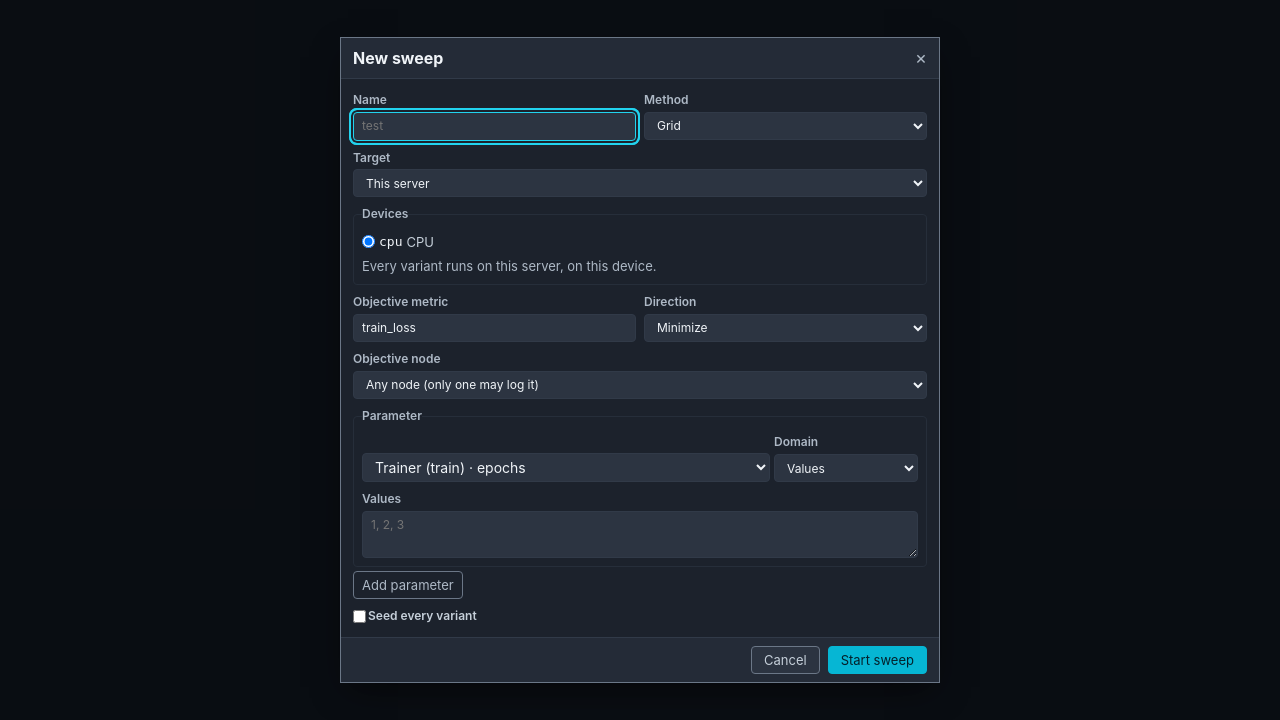
Test: NewSweepDialog › shows a thrown value that is not an Error as text
In the text box labelled "Values": [640, 534] box x1=362 y1=511 x2=918 y2=558, type "2, 4"
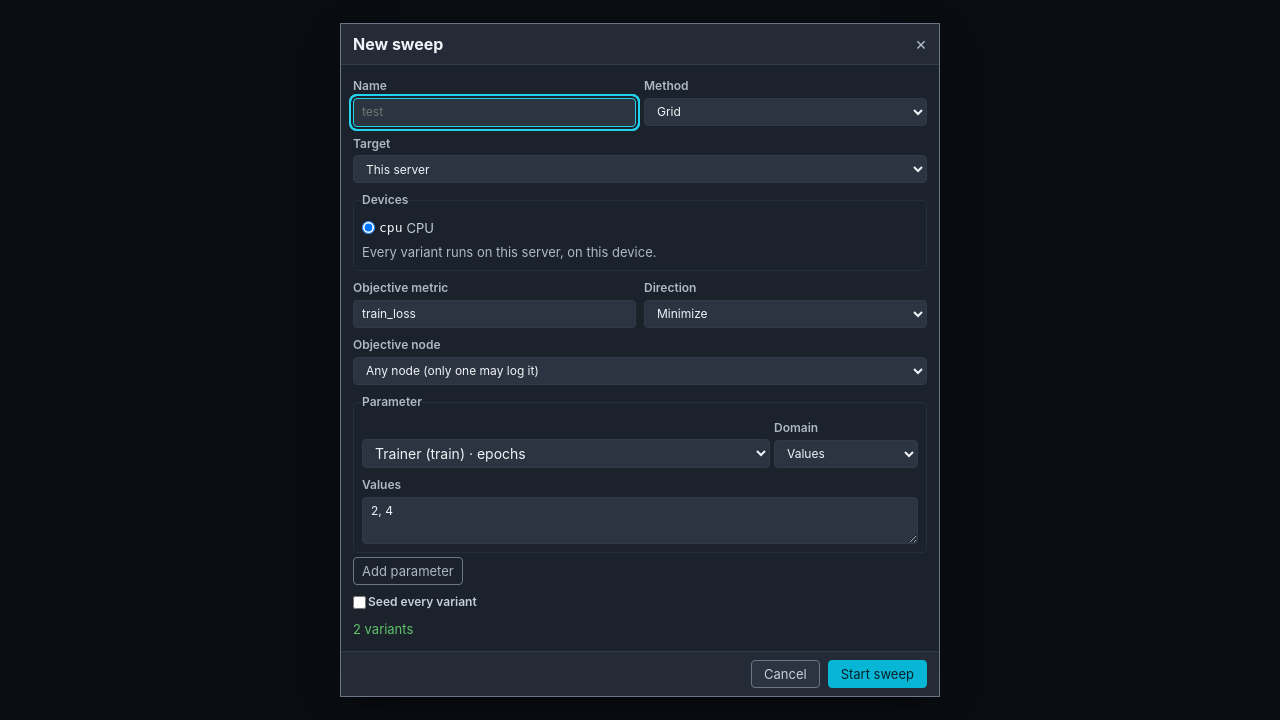
Click the button "Start sweep": [877, 674] box x1=828 y1=660 x2=927 y2=688
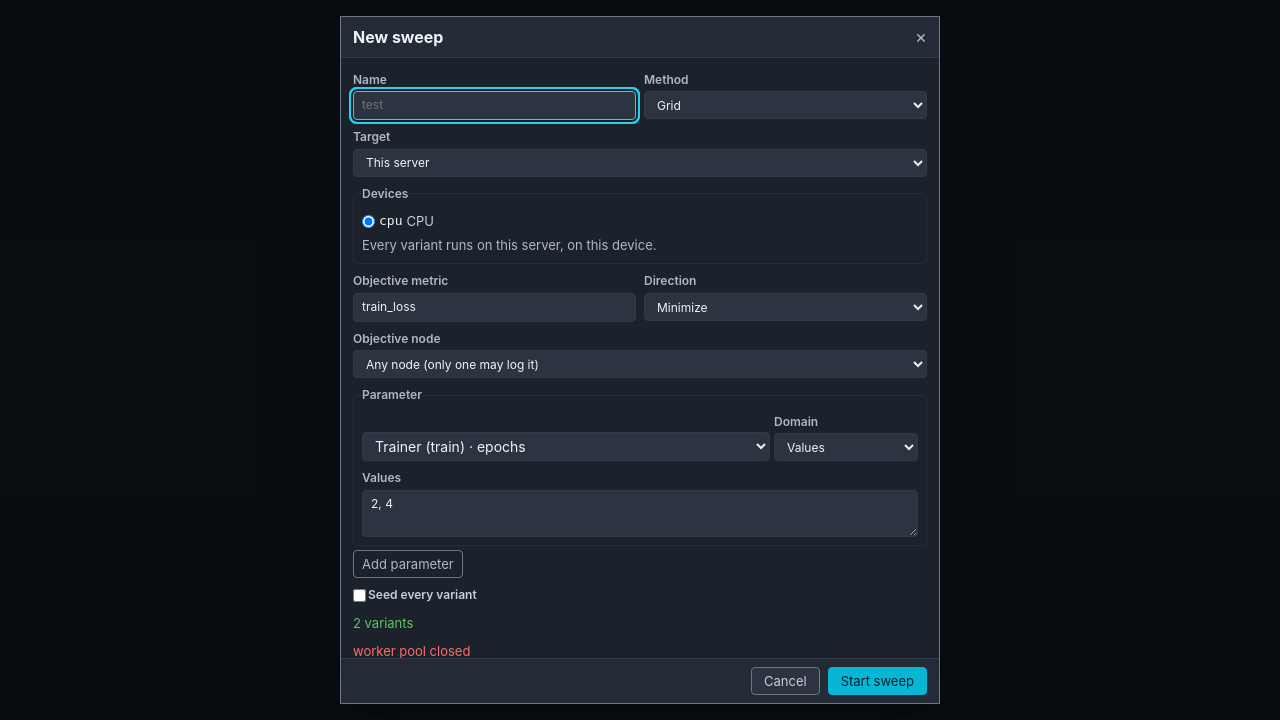
Expected: the message reads "worker pool closed", x1=353 y1=643 x2=470 y2=659
